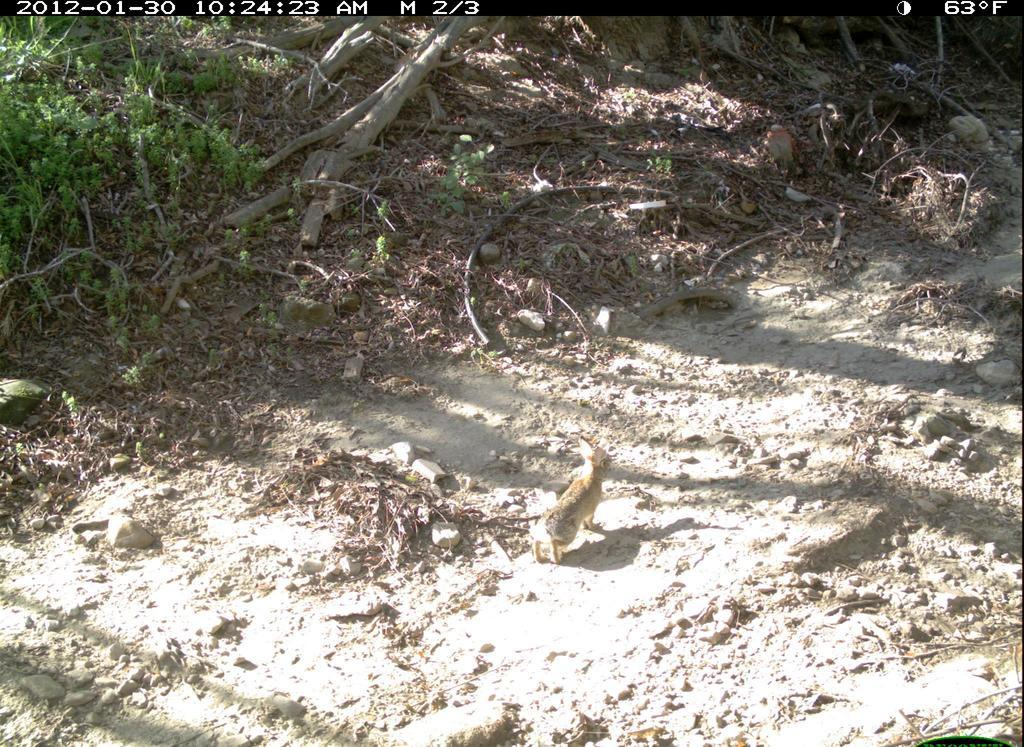rabbit: (524, 432, 623, 569)
